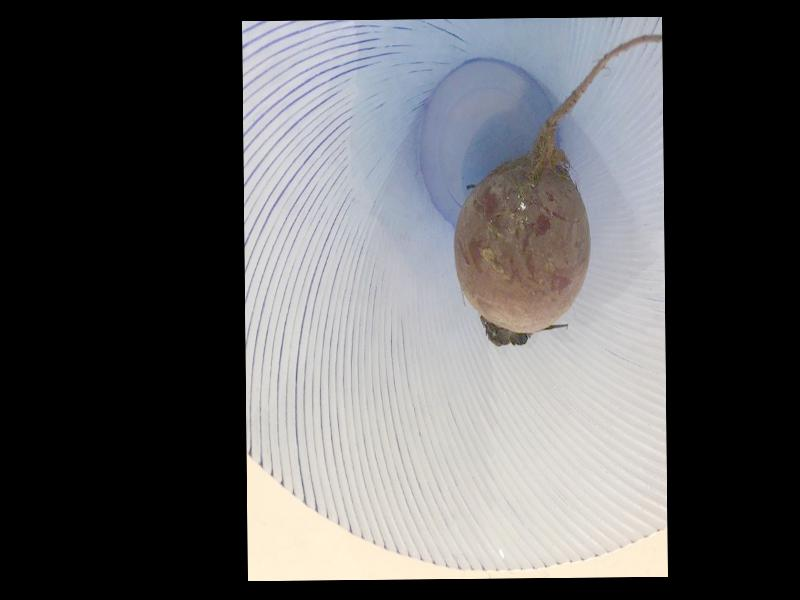Beet: (451, 35, 665, 348)
